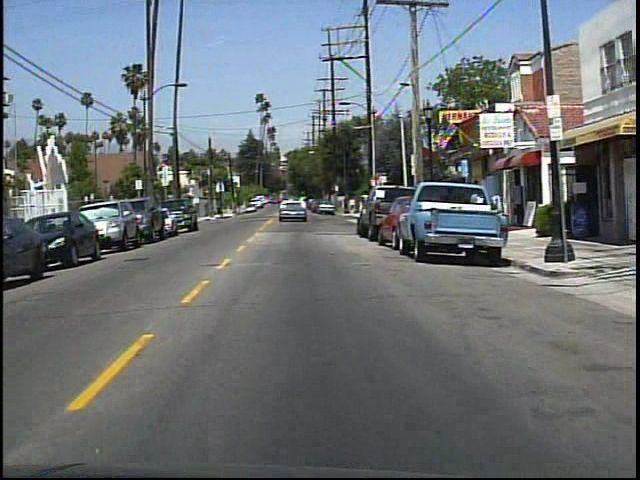person: (468, 184, 491, 233)
